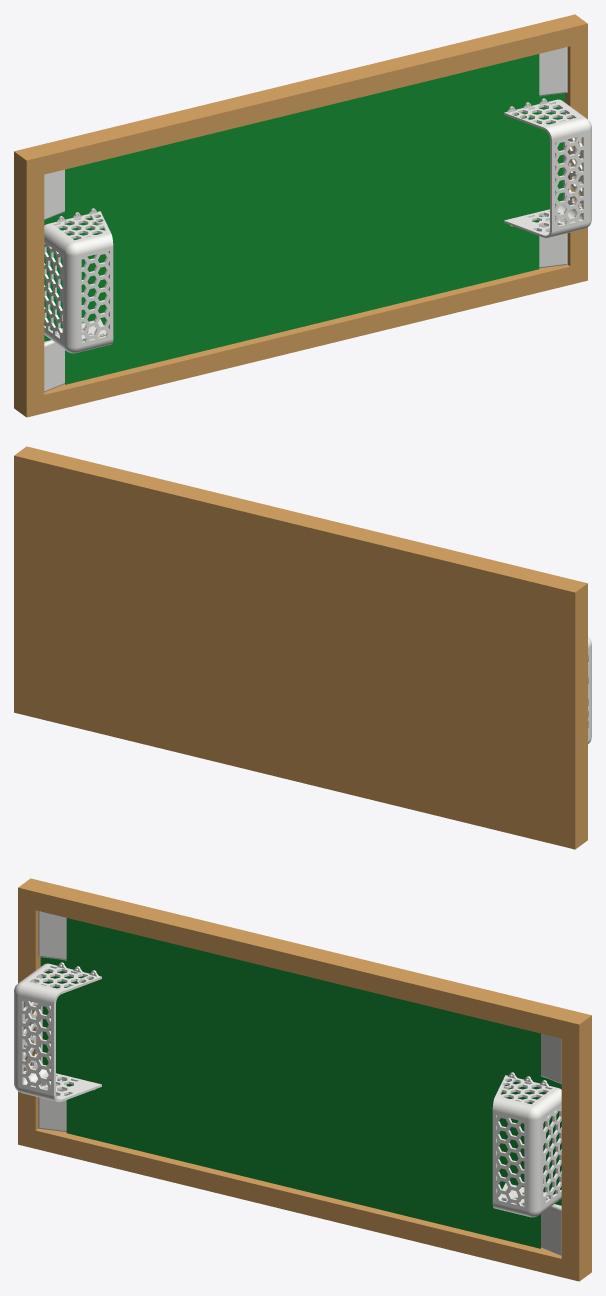
File: model-lite.glb
3 views of the same model, one above another, from view 1: azimuth 30°, elevation 25°; view 2: azimuth 150°, elevation 25°; view 3: azimuth 330°, elevation 25° (orthographic).
Visible parts, largest first — view 1: Grass, woodborder, Left Goal; view 2: woodborder; view 3: Grass, woodborder, Left Goal.
Boxes of the visible parts, box(x1,y1,x2,y2) form: Grass: box(44, 54, 565, 384); woodborder: box(14, 14, 587, 417); Left Goal: box(44, 47, 591, 391); woodborder: box(14, 446, 587, 849); Grass: box(40, 918, 561, 1248); woodborder: box(18, 878, 591, 1281); Left Goal: box(14, 911, 561, 1255).
Size of the model in its own units: 163 by 71.13 by 19.05.
